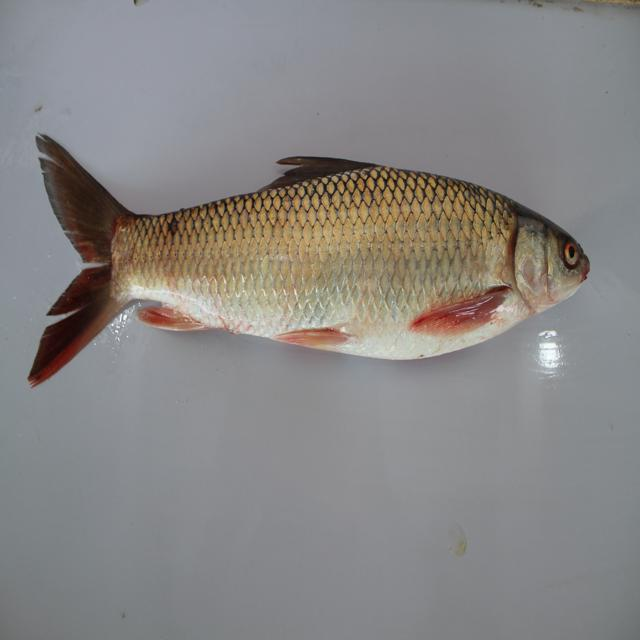Mori: (18, 115, 602, 395)
